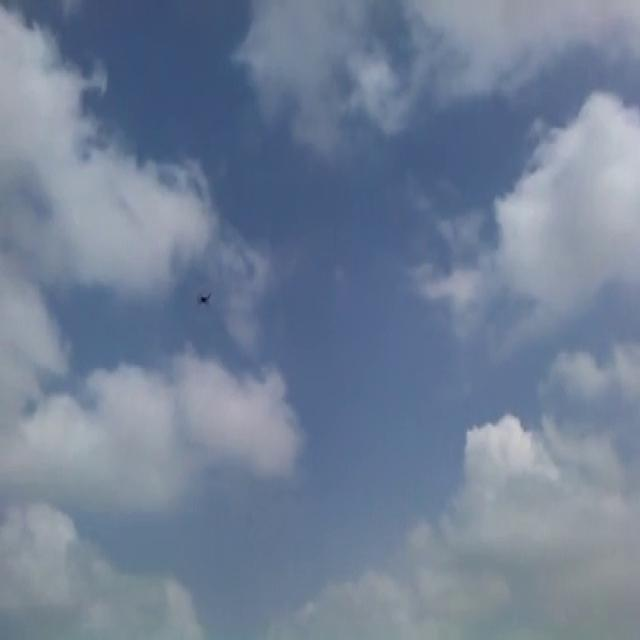drone: (195, 283, 213, 311)
